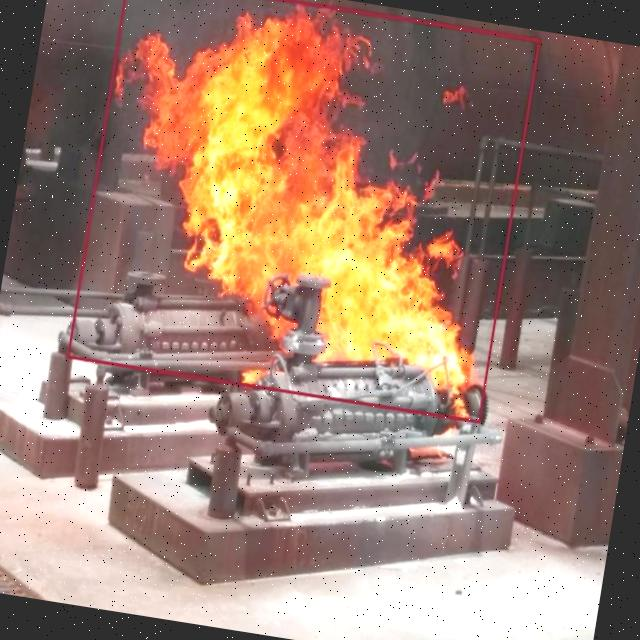fire: (66, 0, 540, 423)
